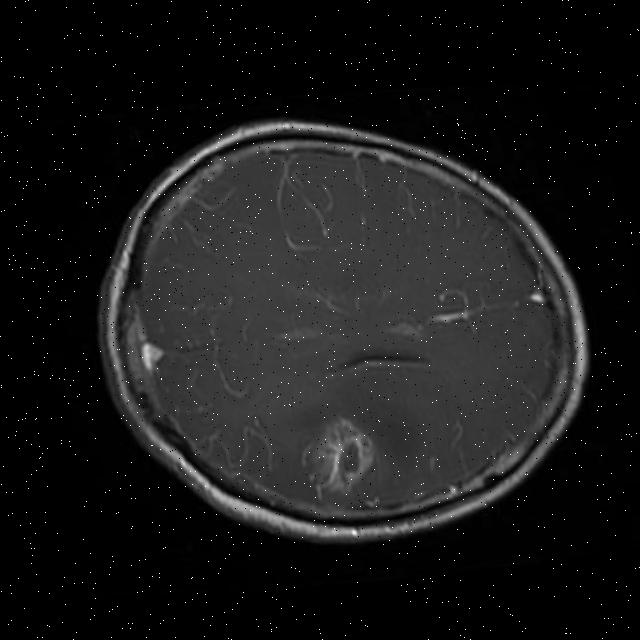Glioma: (292, 406, 387, 502)
